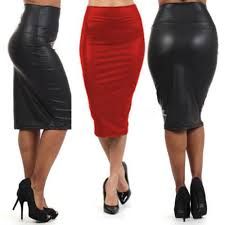C_skirt: (75, 1, 147, 142)
S_skirt: (147, 1, 220, 139), (1, 1, 78, 130)
